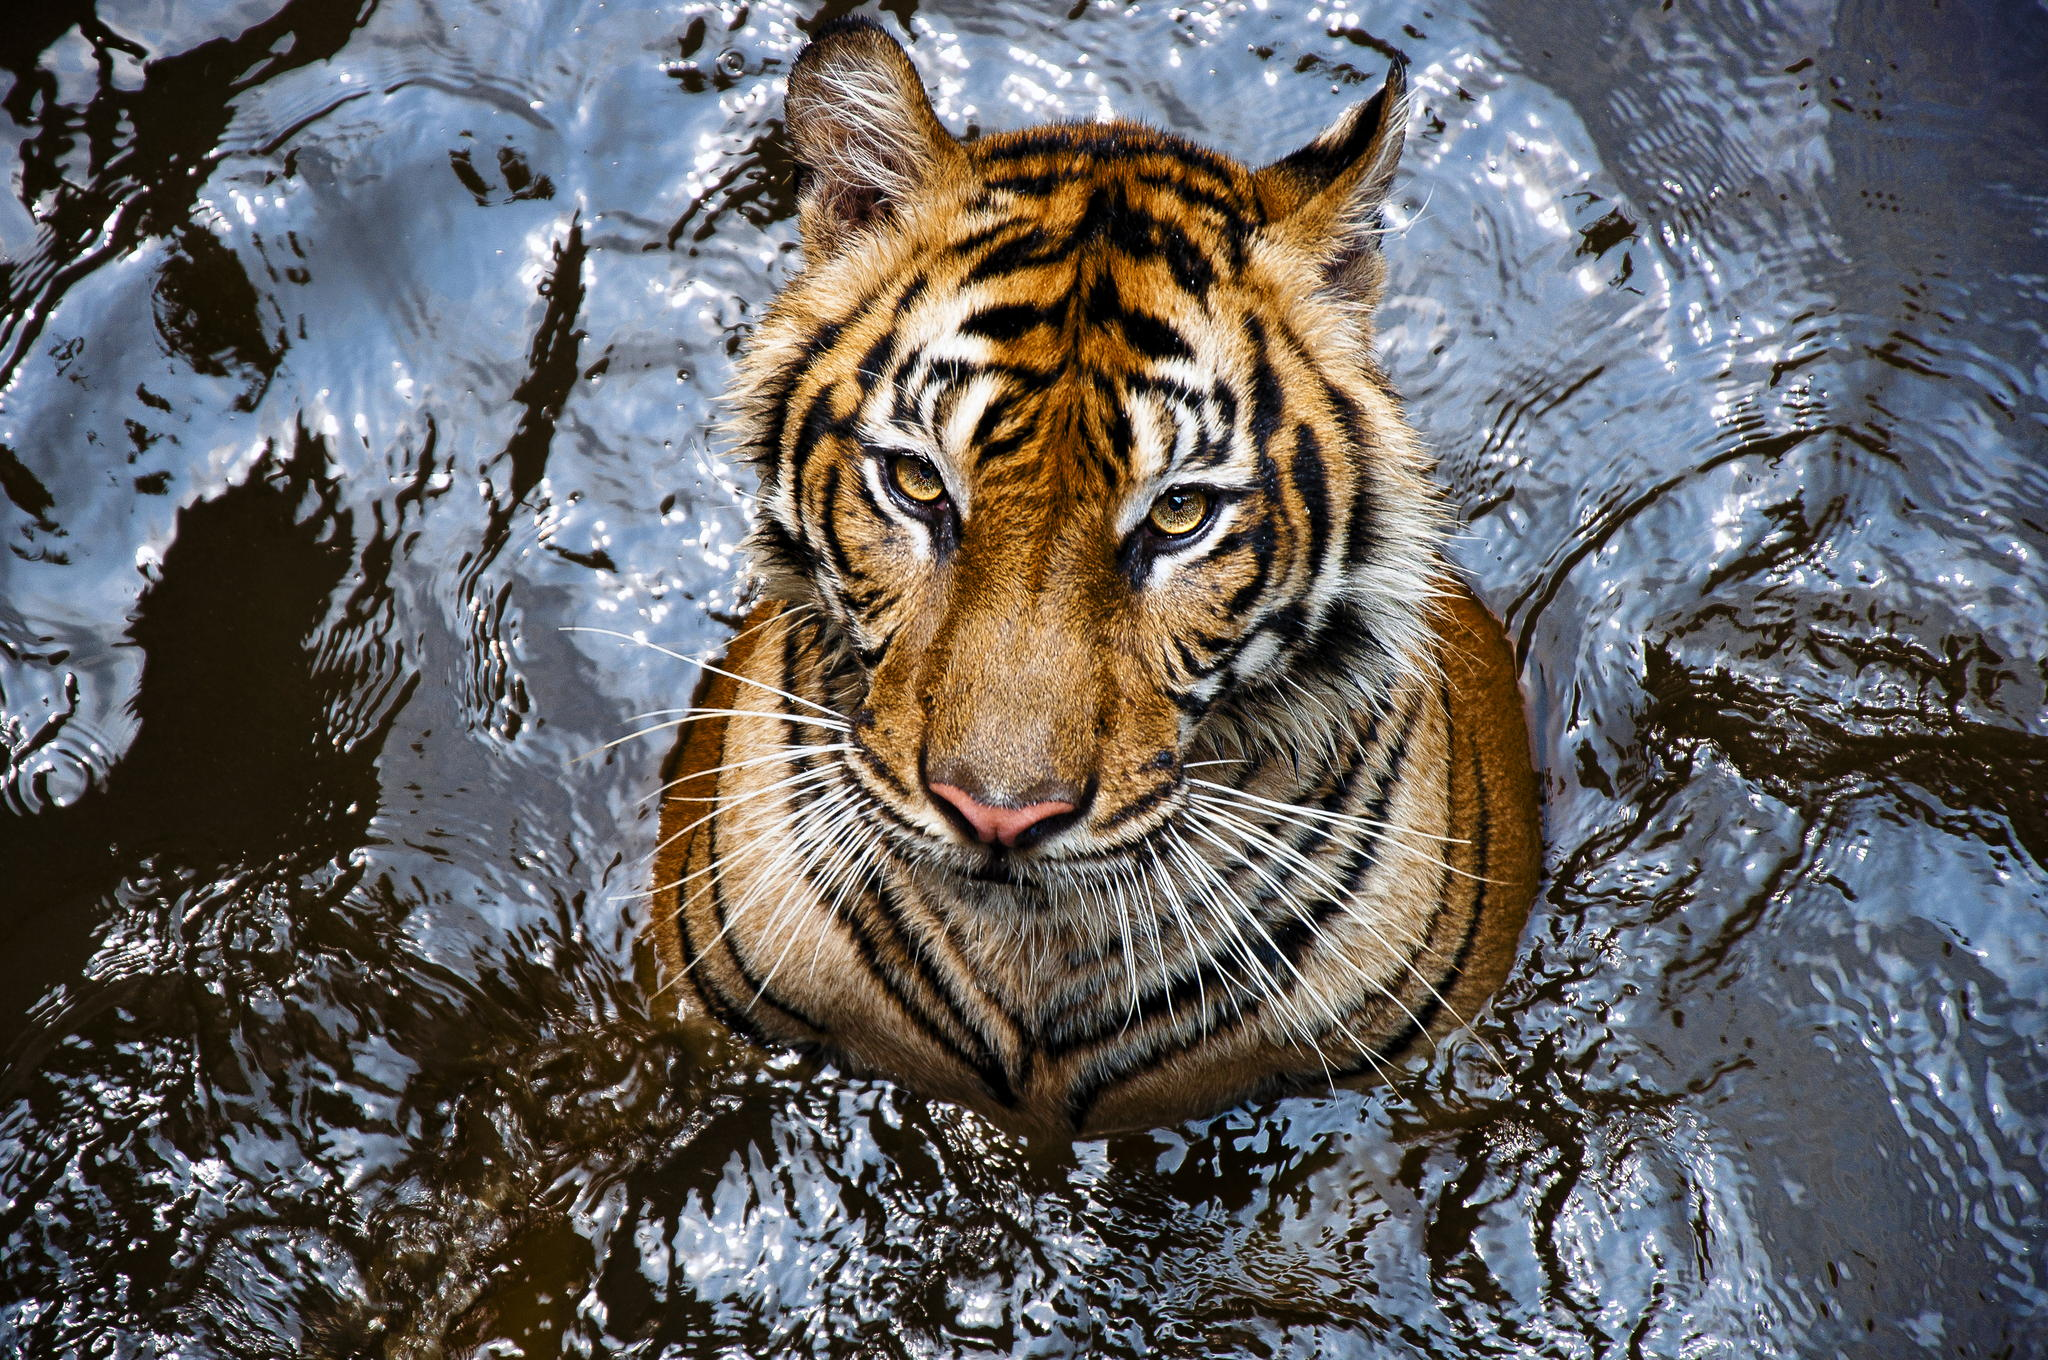tiger: (614, 26, 1544, 1116)
